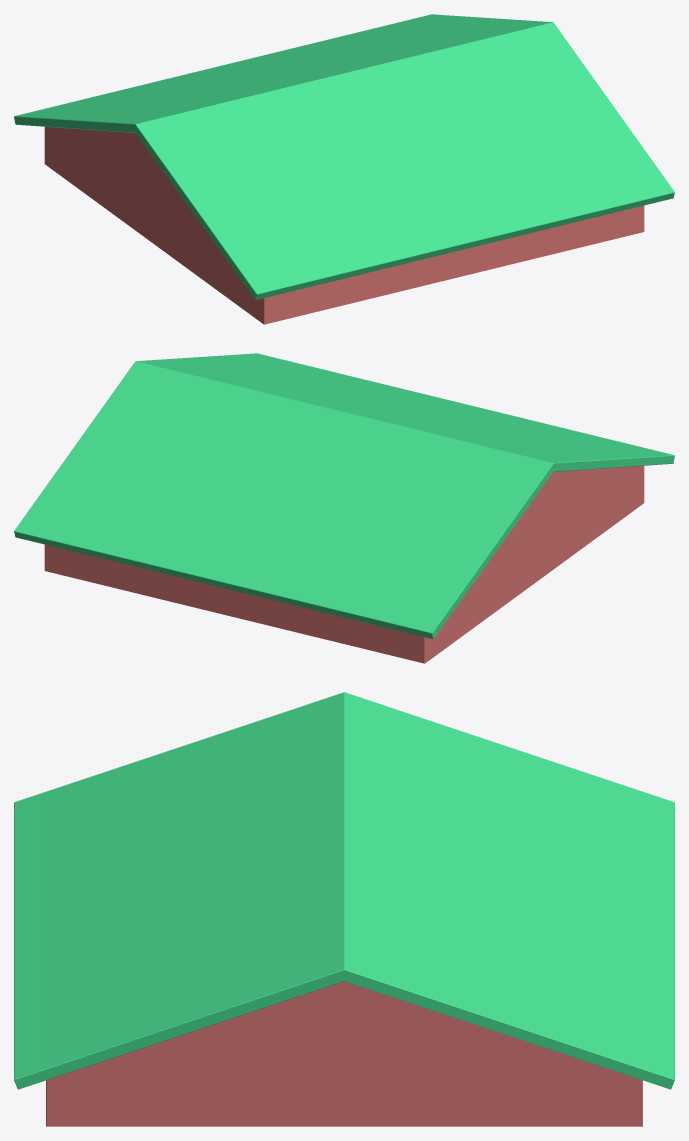
The model's file is BuildingBlock_3_3_roof.fbx.
3 renders of one model, top to bottom at view 1: azimuth 30°, elevation 25°; view 2: azimuth 150°, elevation 25°; view 3: azimuth 270°, elevation 25°, orthographic. The views are drawn at different scales.
Parts seen in each view (by area): view 1: BuildingBlock_3_3_roof; view 2: BuildingBlock_3_3_roof; view 3: BuildingBlock_3_3_roof.
Boxes of the visible parts, x1=… form: BuildingBlock_3_3_roof: x1=14, y1=14, x2=674, y2=324; BuildingBlock_3_3_roof: x1=14, y1=353, x2=674, y2=663; BuildingBlock_3_3_roof: x1=14, y1=692, x2=674, y2=1126.
Bounding box in the file's own units: 1100 × 313 × 1107.
